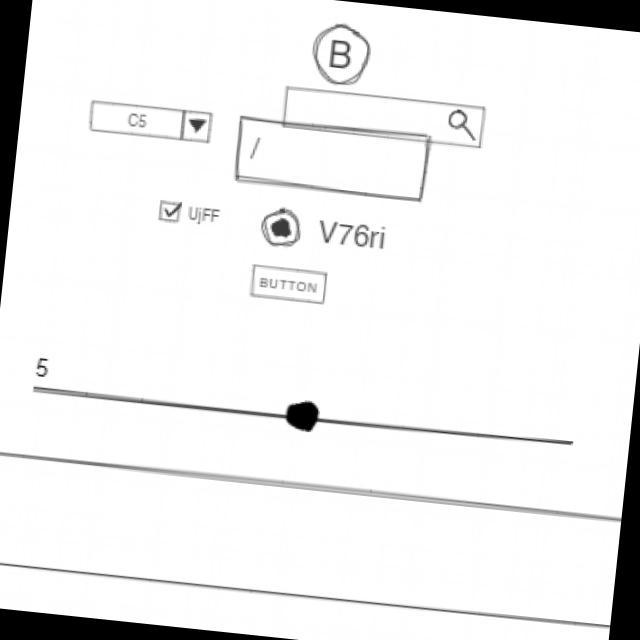button: (246, 261, 332, 308)
checkbox: (156, 198, 226, 230)
container: (1, 444, 622, 633)
icon-button: (308, 18, 377, 91)
input: (231, 114, 437, 207)
radio: (260, 205, 393, 260)
search: (280, 83, 492, 155)
select: (84, 95, 218, 149)
slider: (52, 369, 583, 465)
